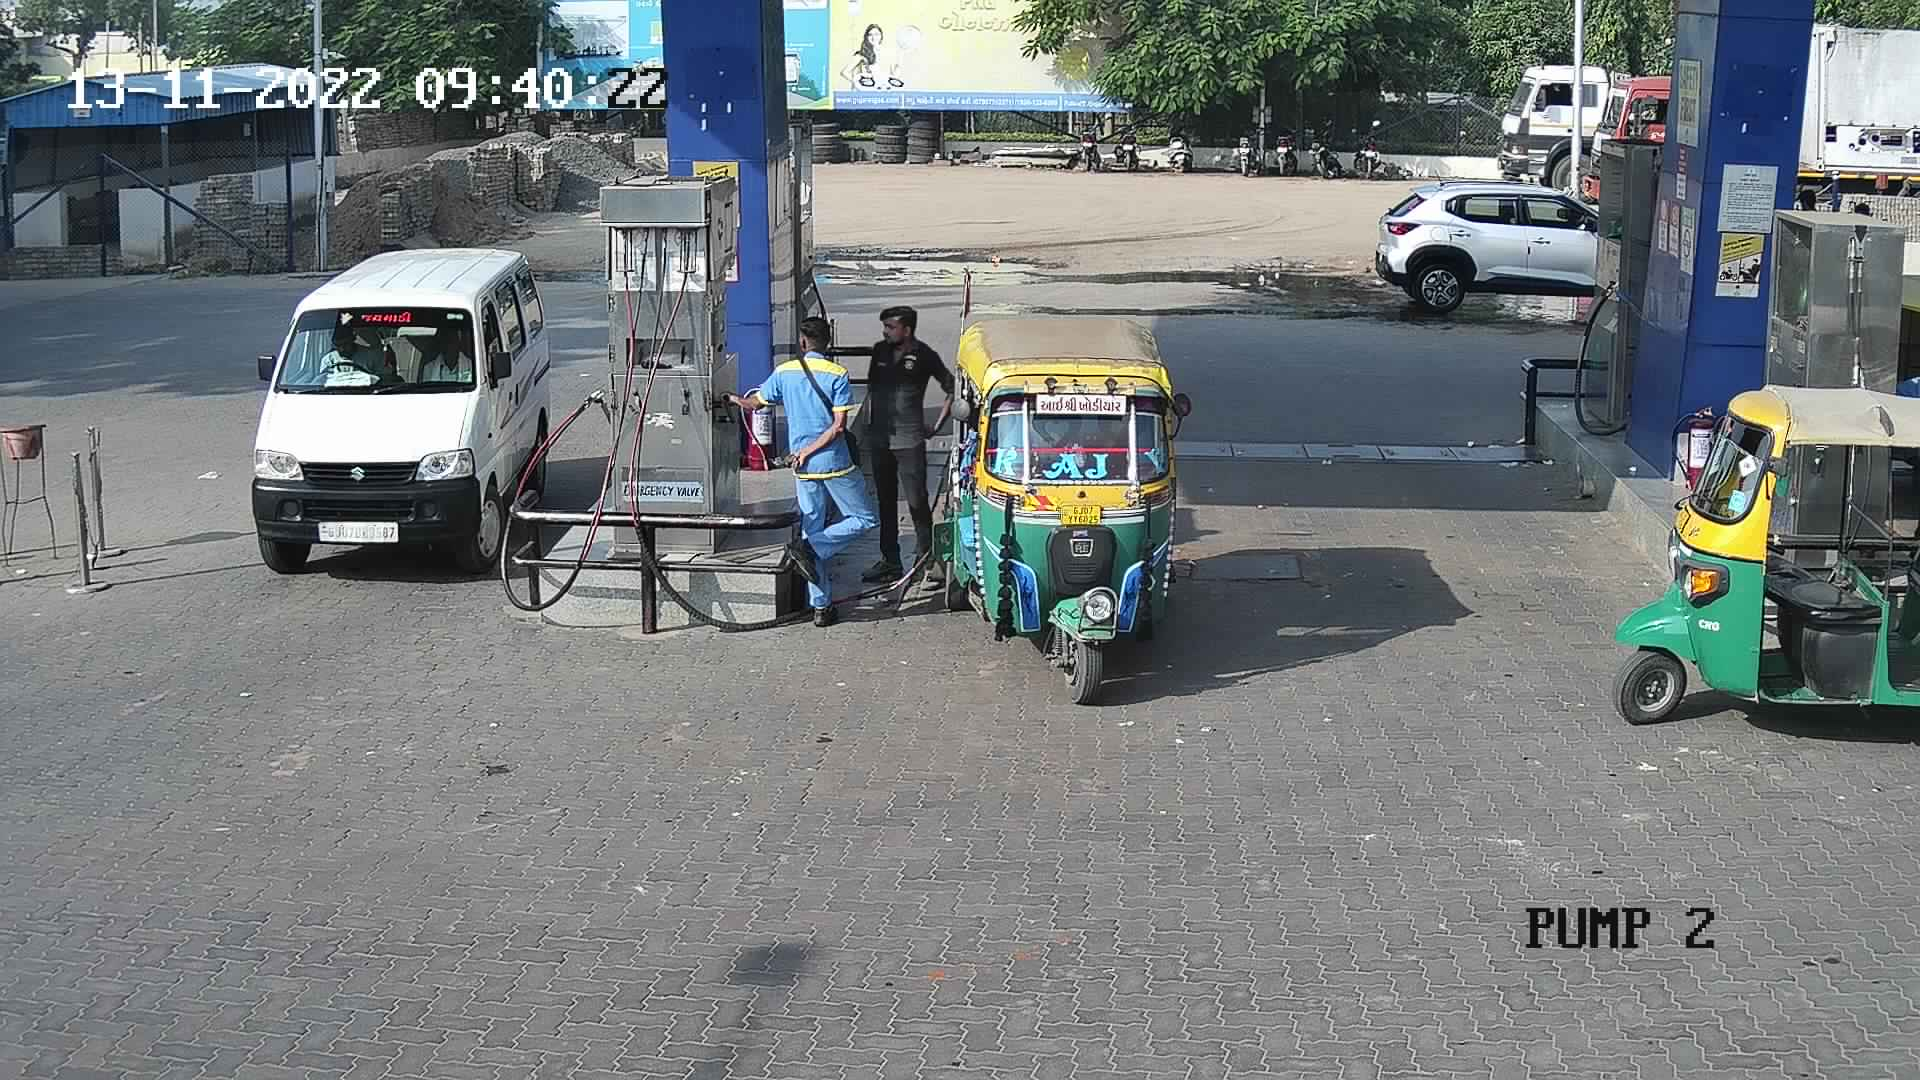Auto: (1617, 360, 1916, 766), (913, 301, 1196, 713), (1873, 257, 1917, 406)
Bike: (1106, 105, 1149, 175), (1346, 113, 1389, 179), (1222, 109, 1265, 175), (1305, 113, 1344, 182), (1072, 111, 1112, 173), (1164, 109, 1199, 177), (1265, 117, 1302, 179)
Car: (244, 236, 576, 571), (1371, 167, 1639, 309)
HMV: (1487, 47, 1676, 215), (1575, 65, 1687, 215)
Others: (746, 302, 889, 629)
